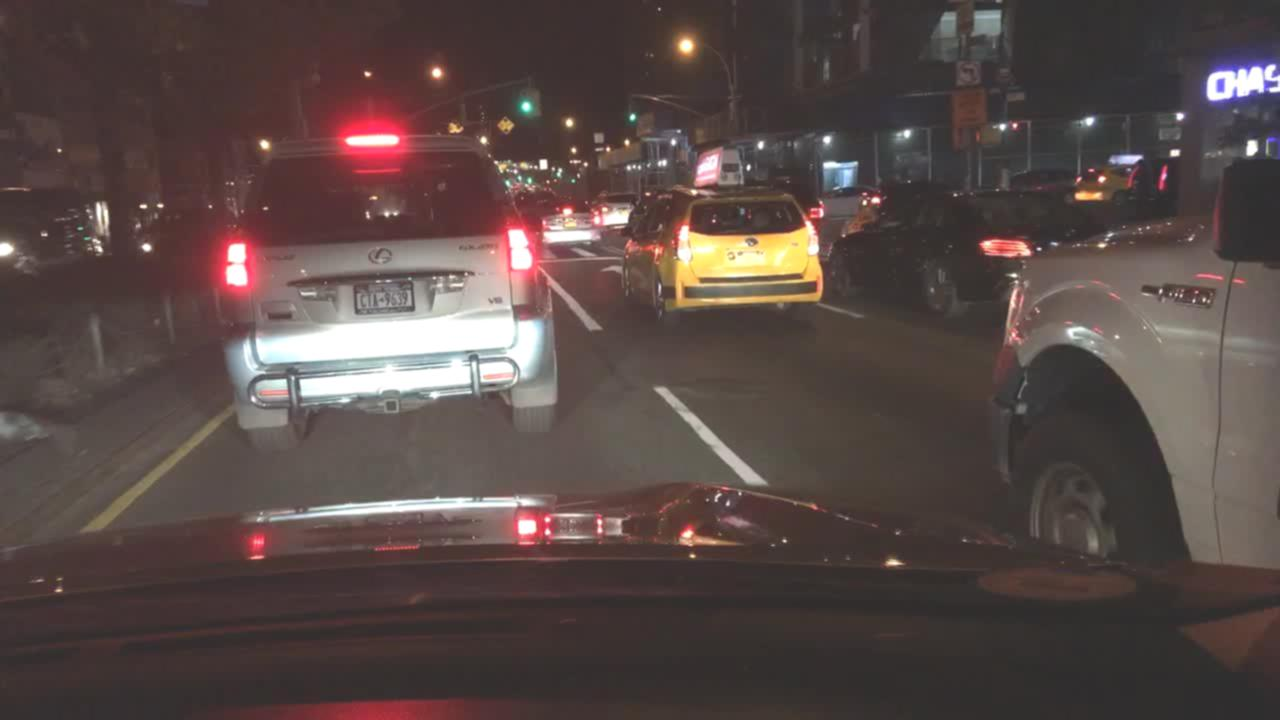lexus: (356, 238, 404, 268)
